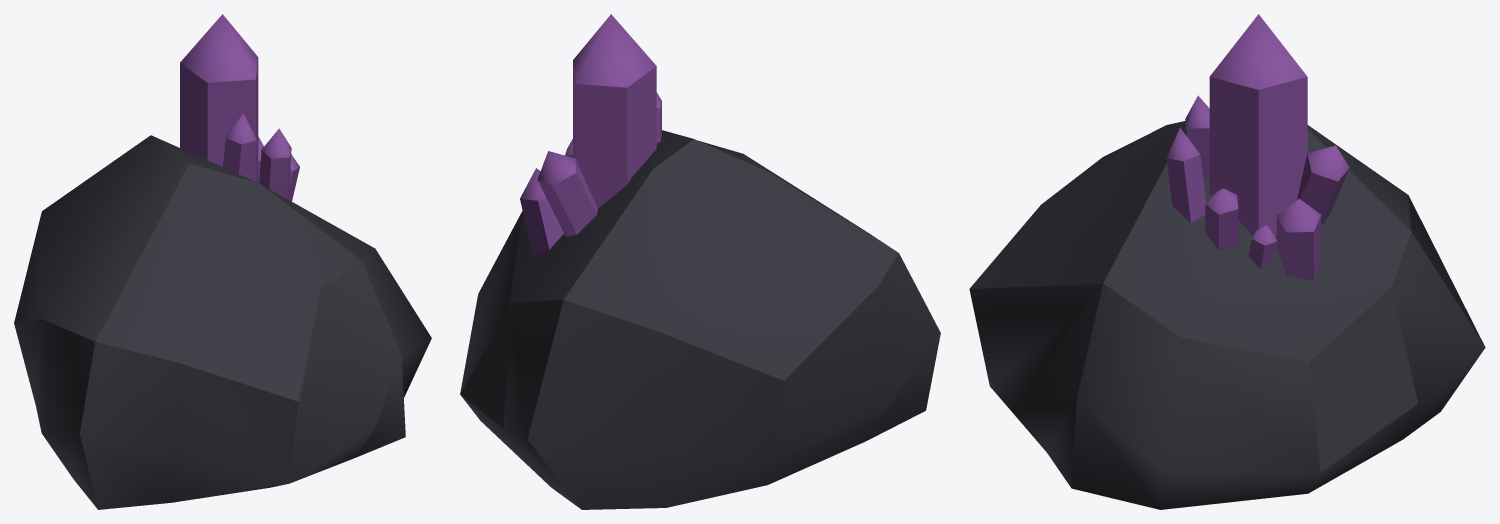
Rendered from hallie_ores_amethyst_NEW.fbx.
3 renders of one model, left to right at view 1: azimuth 30°, elevation 25°; view 2: azimuth 150°, elevation 25°; view 3: azimuth 270°, elevation 25°, orthographic. The views are drawn at different scales.
Parts seen in each view (by area): view 1: m_oreRock, m_ameGem1, m_ameGem5, m_ameGem6; view 2: m_oreRock, m_ameGem1, m_ameGem3, m_ameGem2; view 3: m_oreRock, m_ameGem1, m_ameGem2, m_ameGem5, m_ameGem3, m_ameGem4, m_ameGem6, m_ameGem7.
Part boxes in pixels (x1,y1,x2,y2): m_oreRock: (14,135,431,509); m_ameGem1: (180,14,258,182); m_ameGem5: (259,128,291,199); m_ameGem6: (223,113,256,180); m_oreRock: (460,130,940,509); m_ameGem1: (573,14,656,208); m_ameGem3: (537,151,597,236); m_ameGem2: (520,168,563,256); m_oreRock: (969,121,1485,509); m_ameGem1: (1209,14,1307,236); m_ameGem2: (1276,198,1321,281); m_ameGem5: (1166,127,1206,223); m_ameGem3: (1297,145,1349,225); m_ameGem4: (1205,188,1238,250); m_ameGem6: (1185,95,1209,180); m_ameGem7: (1248,225,1277,268).
Bounding box in the file's own units: 0.885 × 0.8508 × 0.9185.
